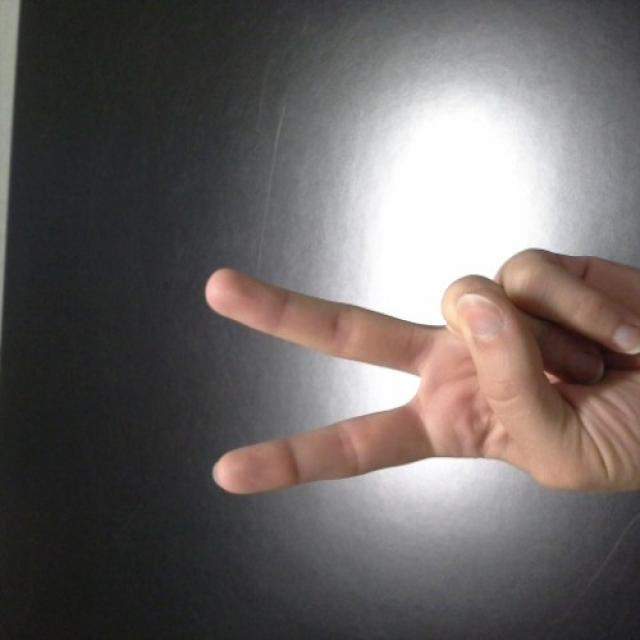scissors: (204, 246, 638, 494)
